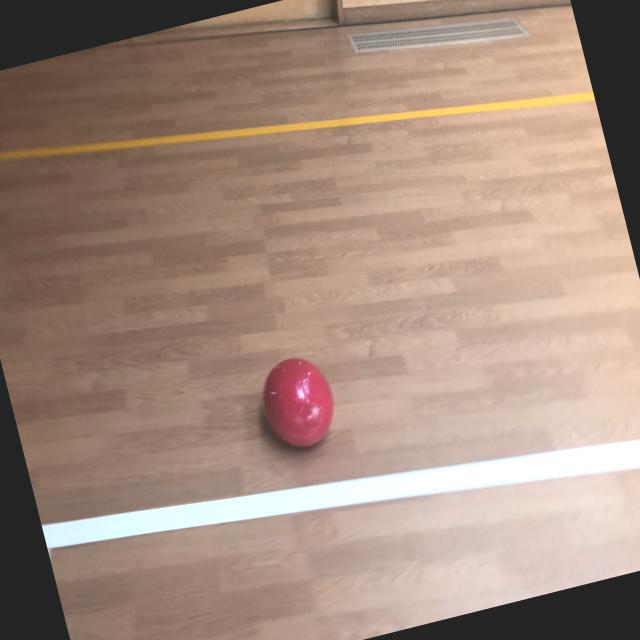red_ball: (252, 348, 345, 456)
